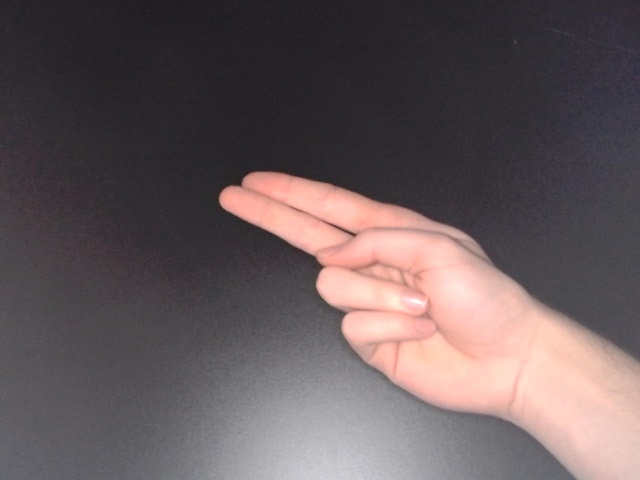h: (214, 168, 539, 439)
